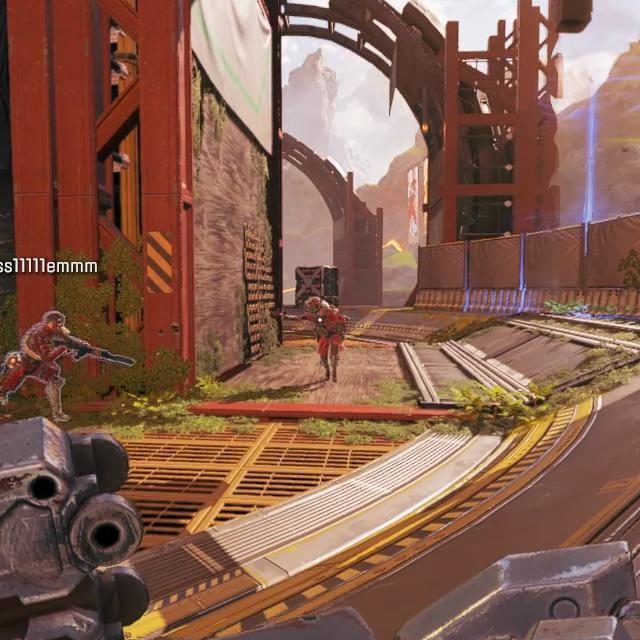avatar: (0, 308, 74, 424), (303, 293, 350, 384)
